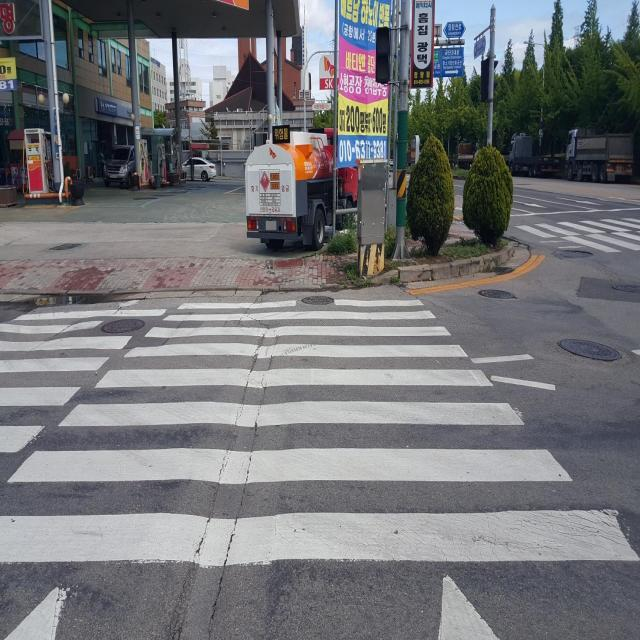횡단보도: (0, 298, 640, 640), (510, 213, 640, 257)
